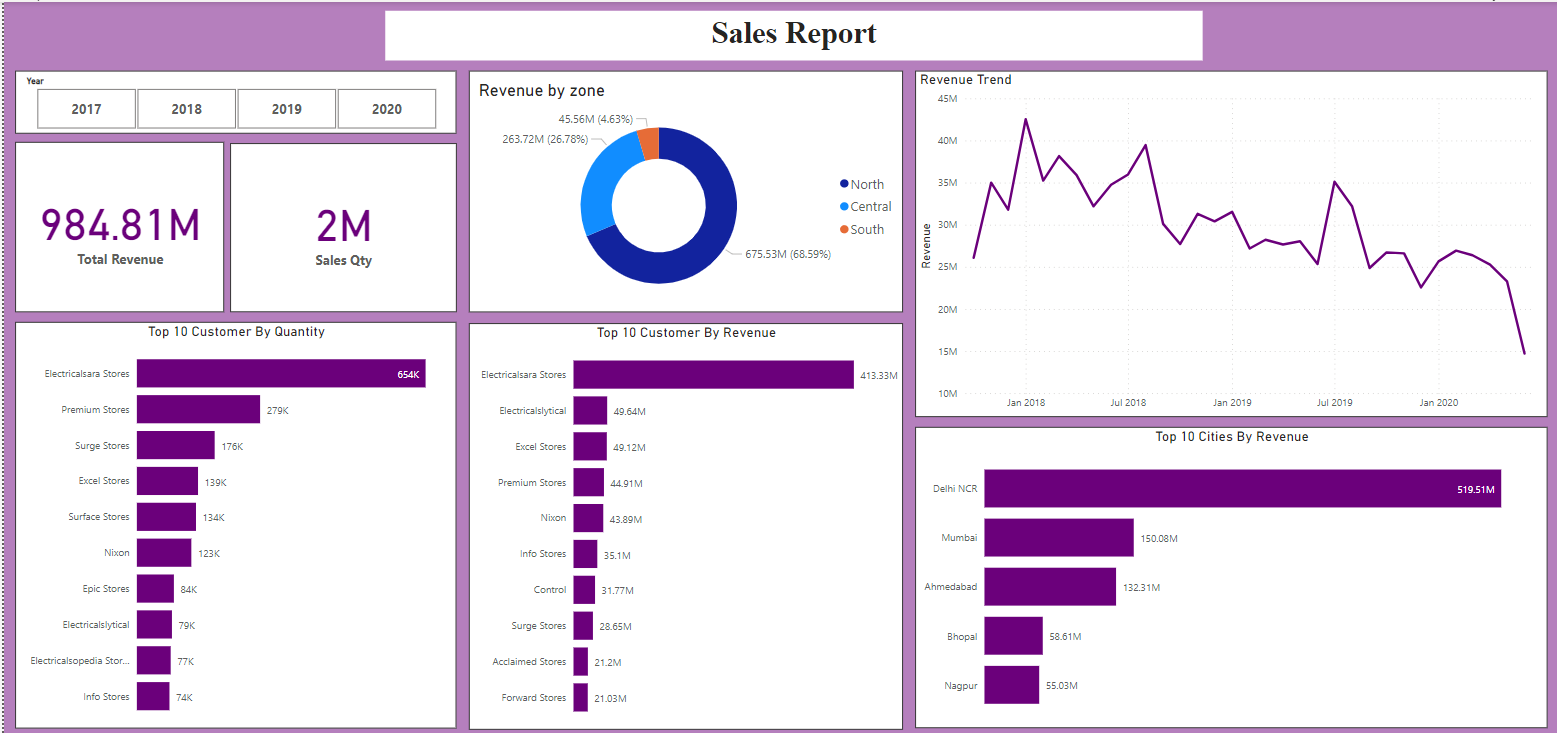

What the dashboard file says about the page in this screenshot:
{"tool":"powerbi","page":{"name":"Page 1","canvas":[1900,900],"ordinal":0},"visuals":[{"type":"card","fields":{"Values":["measures (2).revenue"]},"box":[13.8,171.1,255.2,207.8],"z":0},{"type":"card","fields":{"Values":["measures (2).sales Qty"]},"box":[276.6,172.7,276.6,206.3],"z":1000},{"type":"clusteredBarChart","title":"Top 10 Customer By Quantity","fields":{"Y":["measures (2).Sales Qty"],"Category":["sales customers.custmer_name"]},"box":[13.8,391.2,539.4,496.6],"z":2000},{"type":"slicer","fields":{"Values":["sales date.year"]},"box":[13.8,84,539.4,76.4],"z":3000},{"type":"clusteredBarChart","title":"Top 10 Customer By Revenue","fields":{"Y":["measures (2).Total Revenue"],"Category":["sales customers.custmer_name"]},"box":[568.4,392.7,530.2,496.6],"z":4000},{"type":"clusteredBarChart","title":"Top 10 Cities By Revenue","fields":{"Y":["measures (2).Total Revenue"],"Category":["sales markets.markets_name"]},"box":[1113.9,519.5,773.2,368.3],"z":5000},{"type":"lineChart","title":"Revenue Trend","fields":{"Y":["measures (2).Total Revenue"],"Category":["sales date.cy_date.Variation.Date Hierarchy.Year","sales date.cy_date.Variation.Date Hierarchy.Quarter","sales date.cy_date.Variation.Date Hierarchy.Month"]},"box":[1113.9,84,773.2,423.3],"z":6000},{"type":"donutChart","title":"Revenue by zone","fields":{"Category":["sales markets.zone"],"Y":["measures (2).Total Revenue"]},"box":[568.4,84,530.2,294.9],"z":6001},{"type":"textbox","box":[466,10.7,999.3,61.1],"z":6002}]}

Visuals, with their boxes in screenshot pixels (x1, y1, x2, y2), scaled from the page's 1900x900 canvas onto the 1557x733 screenshot:
card - measures (2).revenue: select_region(11, 139, 220, 309)
card - measures (2).sales Qty: select_region(227, 141, 453, 309)
"Top 10 Customer By Quantity" clusteredBarChart: select_region(11, 319, 453, 723)
slicer - sales date.year: select_region(11, 68, 453, 131)
"Top 10 Customer By Revenue" clusteredBarChart: select_region(466, 320, 900, 724)
"Top 10 Cities By Revenue" clusteredBarChart: select_region(913, 423, 1546, 723)
"Revenue Trend" lineChart: select_region(913, 68, 1546, 413)
"Revenue by zone" donutChart: select_region(466, 68, 900, 309)
textbox: select_region(382, 9, 1201, 58)
